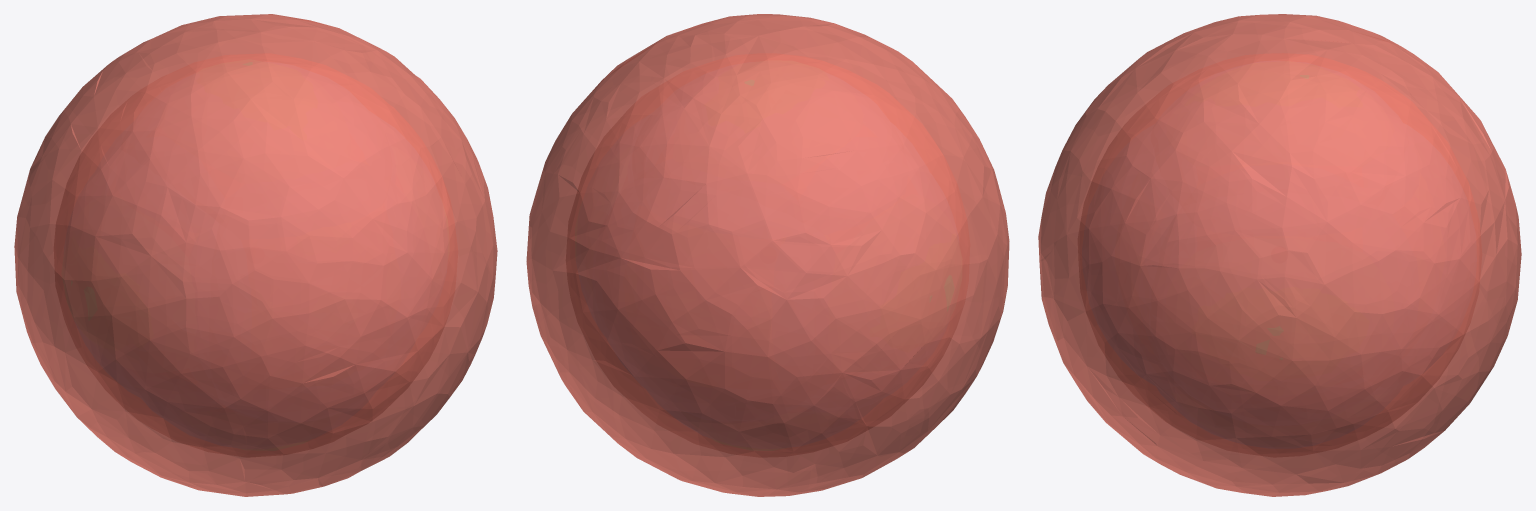
The model's file is orbital.glb.
The picture shows the model from 3 angles, left to right: view 1: azimuth 30°, elevation 25°; view 2: azimuth 150°, elevation 25°; view 3: azimuth 270°, elevation 25°; orthographic projection.
Parts seen in each view (by area): view 1: Lu_n6_s_ml0_node, Lu_n5_s_ml0_node; view 2: Lu_n6_s_ml0_node, Lu_n5_s_ml0_node; view 3: Lu_n6_s_ml0_node, Lu_n5_s_ml0_node.
Part boxes in pixels (<box>): Lu_n6_s_ml0_node: <box>14,14,497,496</box>; Lu_n5_s_ml0_node: <box>54,53,457,457</box>; Lu_n6_s_ml0_node: <box>526,14,1009,496</box>; Lu_n5_s_ml0_node: <box>566,53,969,457</box>; Lu_n6_s_ml0_node: <box>1038,14,1521,496</box>; Lu_n5_s_ml0_node: <box>1078,53,1481,457</box>.
Bounding box in the file's own units: 3.06 × 3.06 × 3.06.
